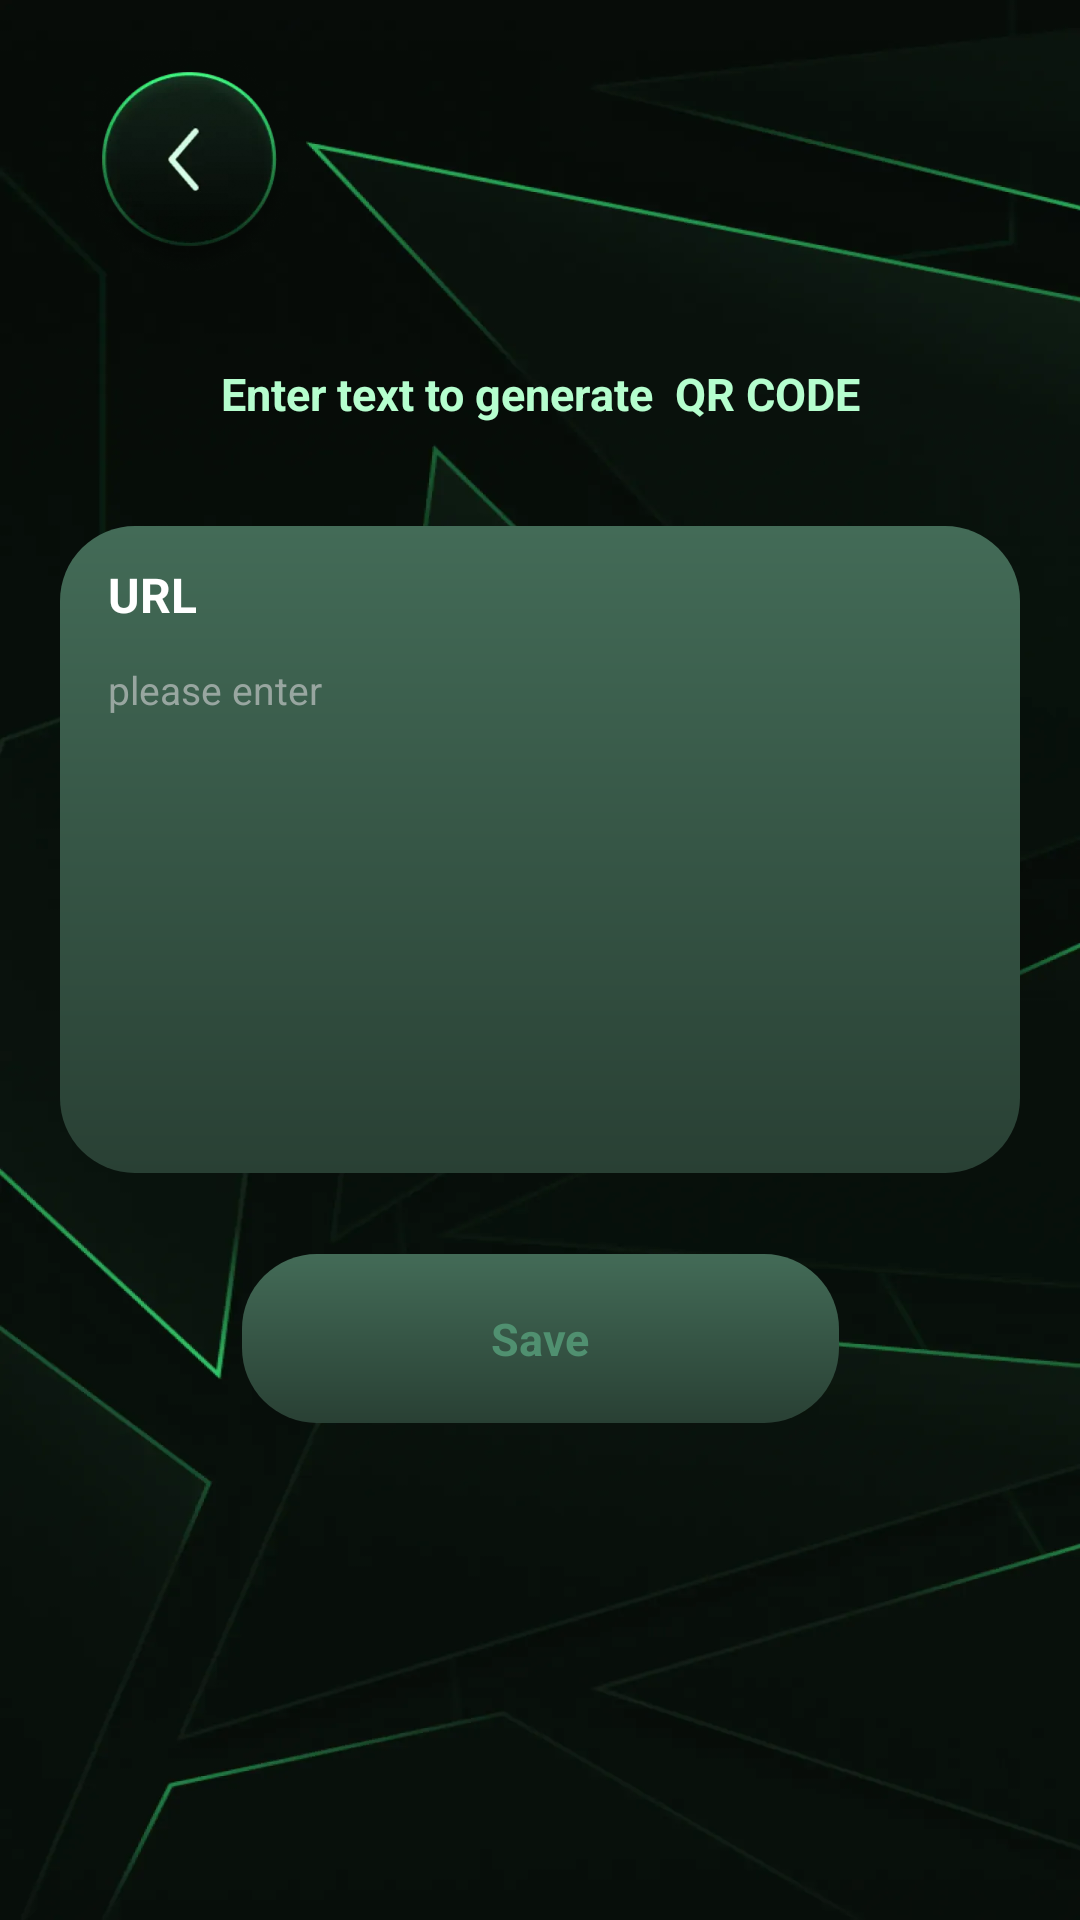

Icons on this 1080x1920 Android screen, each with its box as box=[x1, y1, x2, y2]:
back: box=[102, 72, 277, 246]
